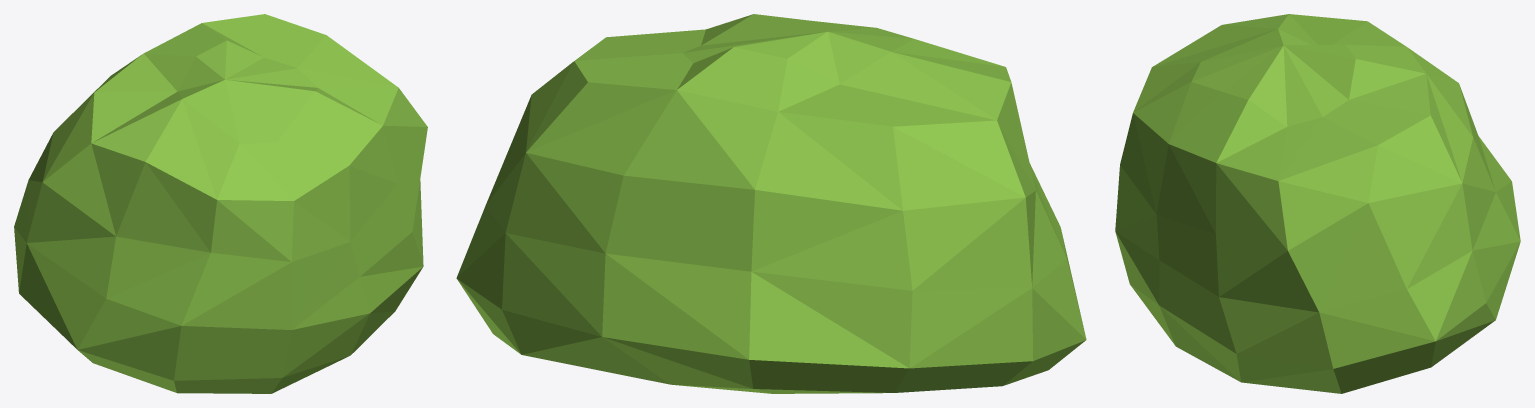
3 renders of one model, left to right at view 1: azimuth 30°, elevation 25°; view 2: azimuth 150°, elevation 25°; view 3: azimuth 270°, elevation 25°, orthographic. The views are drawn at different scales.
Parts seen in each view (by area): view 1: mesh_1082825860; view 2: mesh_1082825860; view 3: mesh_1082825860.
Boxes of the visible parts, x1,y1,x2,y2 form: mesh_1082825860: [14, 14, 427, 393]; mesh_1082825860: [456, 14, 1086, 393]; mesh_1082825860: [1115, 14, 1520, 393].
Bounding box in the file's own units: 10.99 × 7.15 × 9.36.
